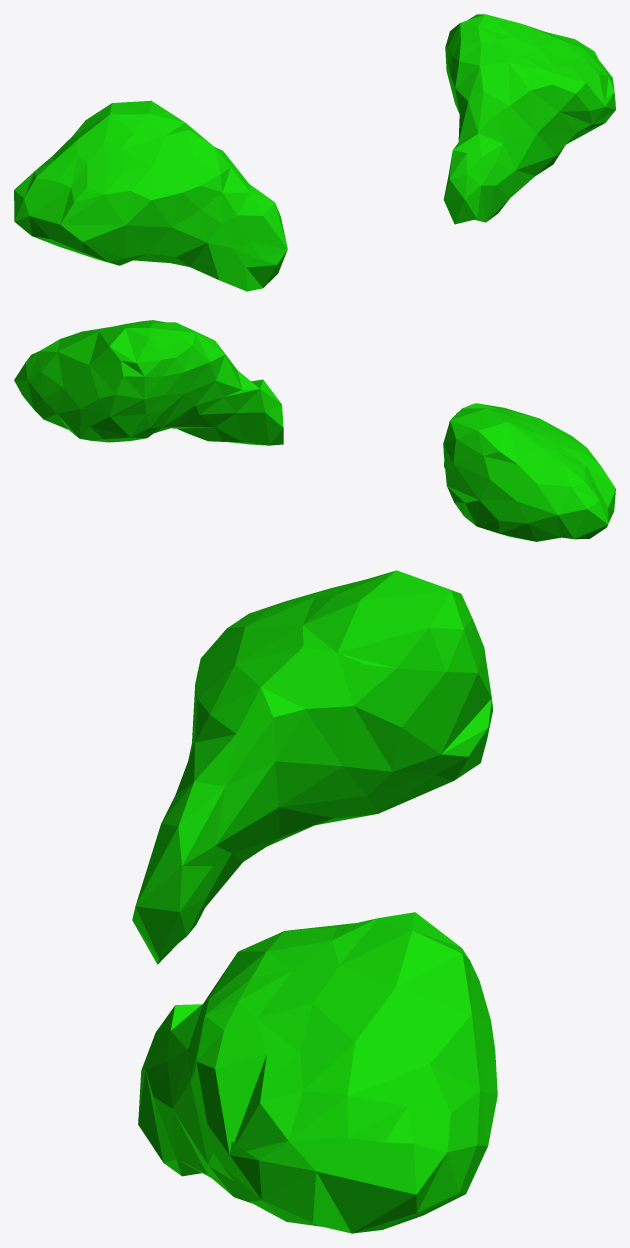
Rendered from 134-VP-ventral pallidum-('0.0745', '1.0000', '0.0000').obj.
3 renders of one model, top to bottom at view 1: azimuth 30°, elevation 25°; view 2: azimuth 150°, elevation 25°; view 3: azimuth 270°, elevation 25°, orthographic. The views are drawn at different scales.
Bounding box in the file's own units: 103 × 26.26 × 27.8.
